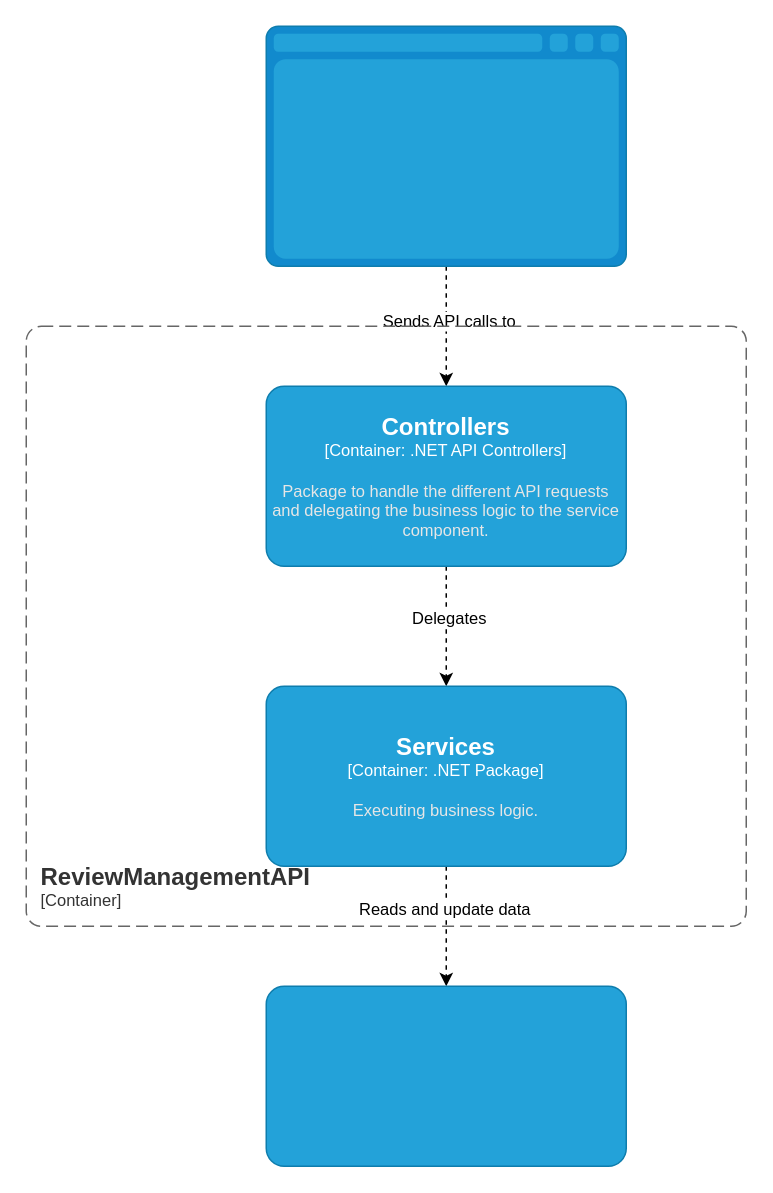
Some shapes in this 773 by 1193 pixel diagram are drawn without their labels. The shapes that lost their labels are listed below. From the top down, each one's centre as x and y in pixels, then its label:
point (445, 145): WebApp [Container: Razor webapp] Pitstop Front-end
point (445, 1075): ReviewManagement [Container: SQL Server 2019] Stores the data of the rentals.
